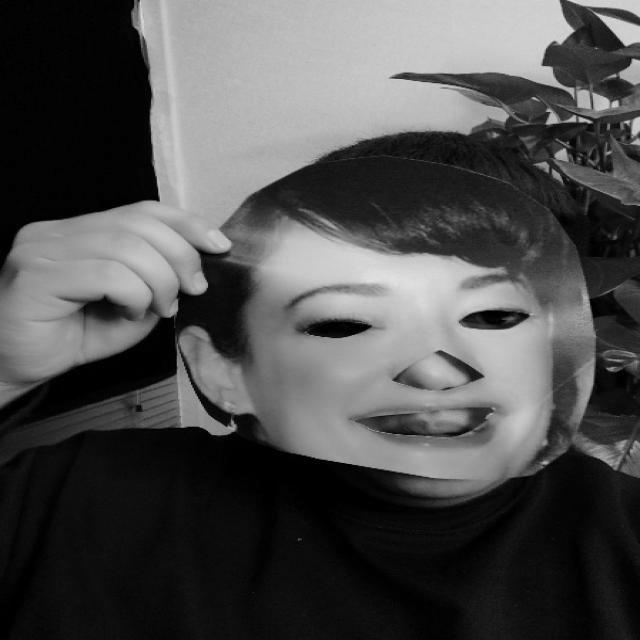fake: (171, 160, 606, 482)
